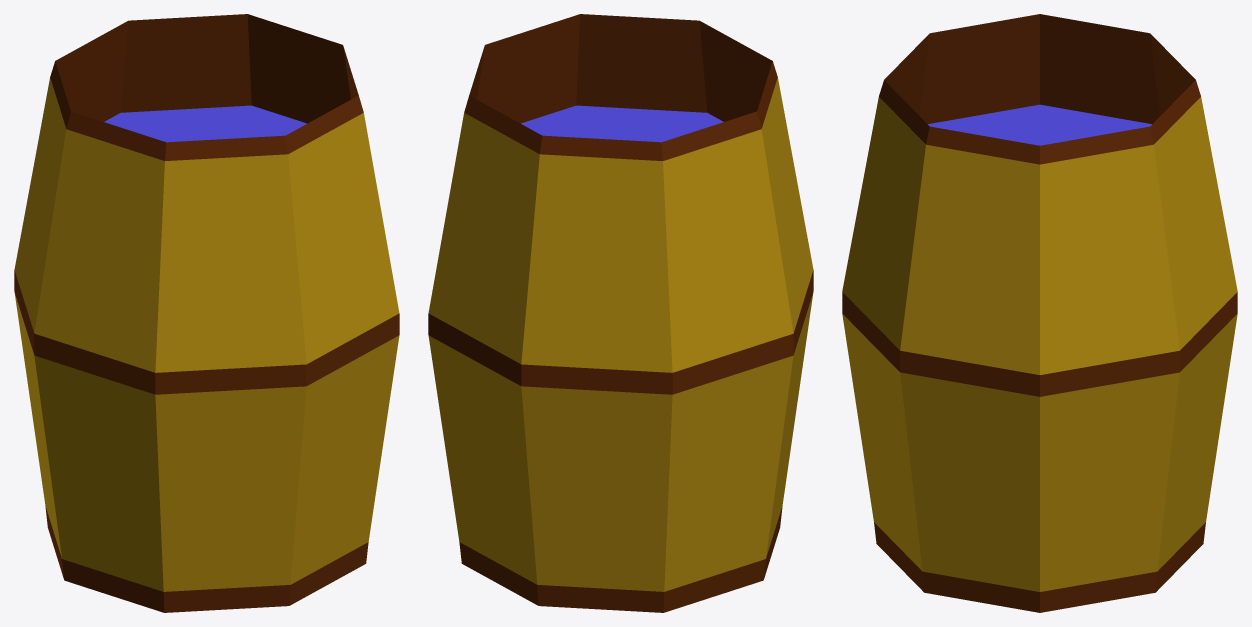
Rendered from barrel_water.fbx.
3 renders of one model, left to right at view 1: azimuth 30°, elevation 25°; view 2: azimuth 150°, elevation 25°; view 3: azimuth 270°, elevation 25°, orthographic.
Parts seen in each view (by area): view 1: Barrel; view 2: Barrel; view 3: Barrel.
Boxes of the visible parts, x1,y1,x2,y2 form: Barrel: [14, 14, 399, 612]; Barrel: [428, 14, 813, 612]; Barrel: [842, 14, 1237, 612].
Bounding box in the file's own units: 242 × 313 × 242.
